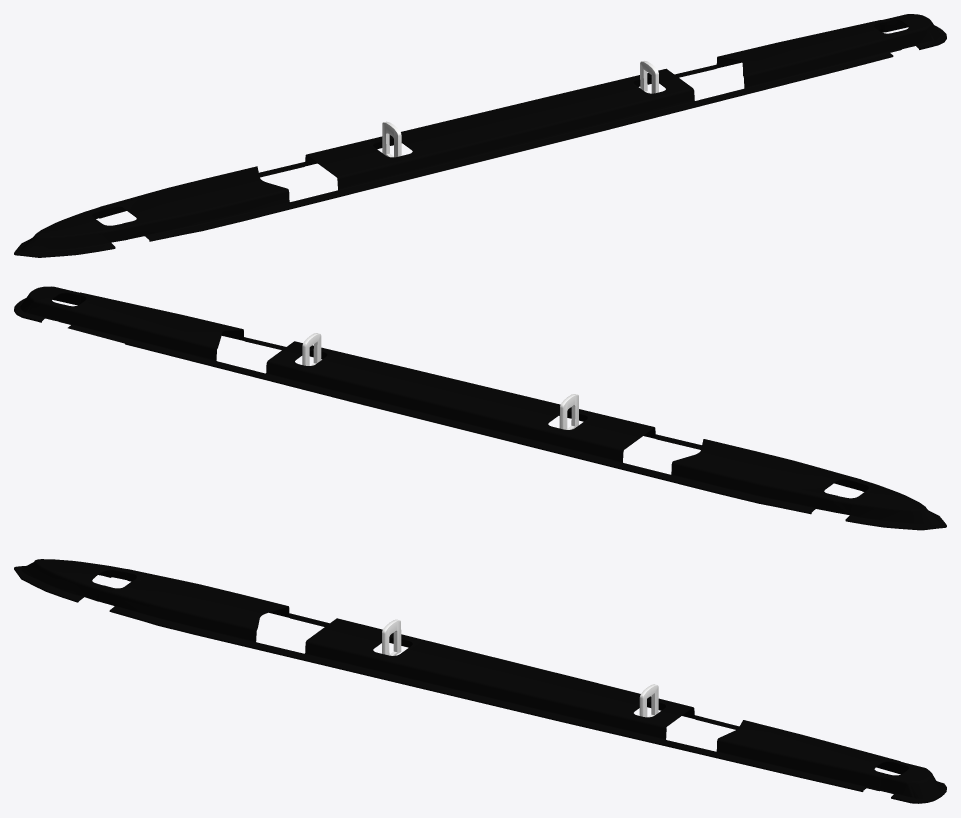
File: support.dae
The picture shows the model from 3 angles, top to bottom: view 1: azimuth 30°, elevation 25°; view 2: azimuth 150°, elevation 25°; view 3: azimuth 330°, elevation 25°; orthographic projection.
Parts seen in each view (by area): view 1: tank_260lb_sup_01, tank_260lb_hook_02; view 2: tank_260lb_sup_01, tank_260lb_hook_02; view 3: tank_260lb_sup_01, tank_260lb_hook_02.
Boxes of the visible parts, x1,y1,x2,y2 form: tank_260lb_sup_01: (14, 14, 946, 257); tank_260lb_hook_02: (382, 121, 401, 157); tank_260lb_sup_01: (14, 286, 946, 530); tank_260lb_hook_02: (559, 394, 578, 429); tank_260lb_sup_01: (14, 559, 946, 803); tank_260lb_hook_02: (382, 619, 401, 655).
Bounding box in the file's own units: 1.27 × 0.1068 × 0.0531.
Materials: 2 (1 with a texture image).
